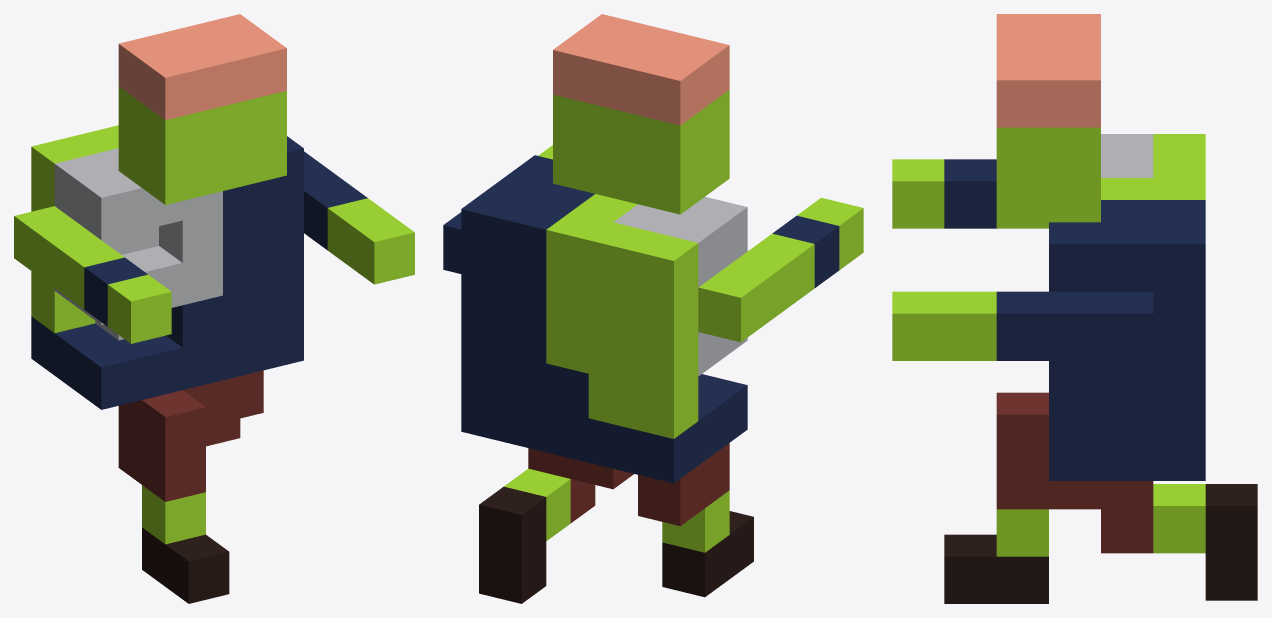
The model's file is zombie_walk_0.obj.
The picture shows the model from 3 angles, left to right: view 1: azimuth 30°, elevation 25°; view 2: azimuth 150°, elevation 25°; view 3: azimuth 270°, elevation 25°; orthographic projection. The views are drawn at different scales.
Size of the model in its own units: 0.7 by 1.2 by 0.7.
1 material, 1 textured.
